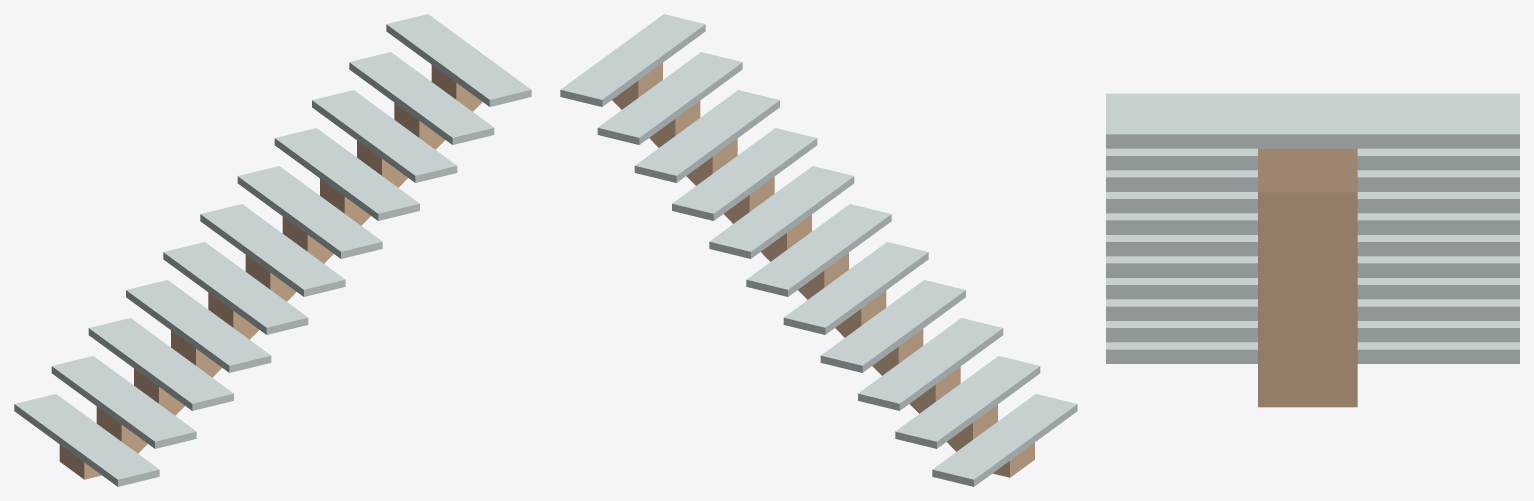
Rendered from stairsOpenSingle.glb.
3 renders of one model, left to right at view 1: azimuth 30°, elevation 25°; view 2: azimuth 150°, elevation 25°; view 3: azimuth 270°, elevation 25°, orthographic. The views are drawn at different scales.
Parts seen in each view (by area): view 1: stairsOpenSingle(Clone), Group; view 2: stairsOpenSingle(Clone), Group; view 3: stairsOpenSingle(Clone), Group.
Boxes of the visible parts, x1,y1,x2,y2 form: stairsOpenSingle(Clone): (14, 14, 531, 486); Group: (59, 65, 482, 479); stairsOpenSingle(Clone): (560, 14, 1077, 486); Group: (612, 63, 1034, 477); stairsOpenSingle(Clone): (1106, 93, 1519, 363); Group: (1258, 148, 1357, 407).
Size of the model in its own units: 3.7 by 2.72 by 1.6.
2 materials, 2 textured.
